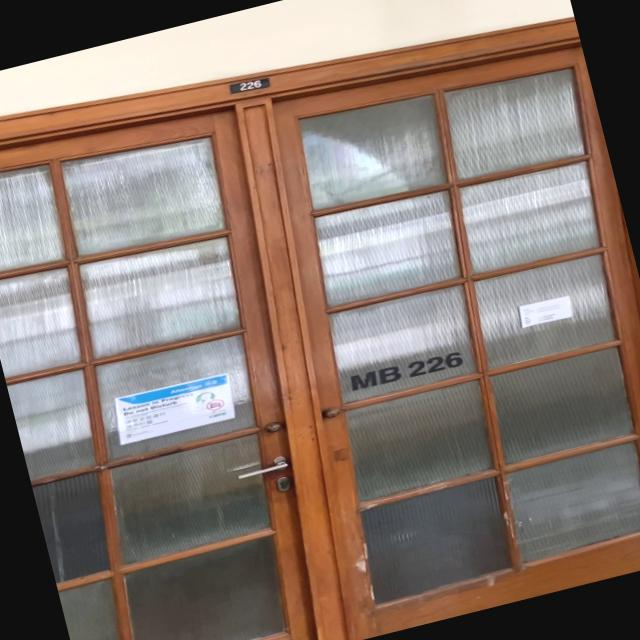room226: (223, 69, 276, 99)
room226Window: (344, 344, 466, 396)
